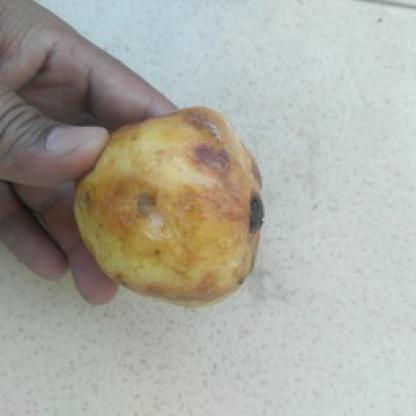guava_rotten: (66, 102, 266, 310)
